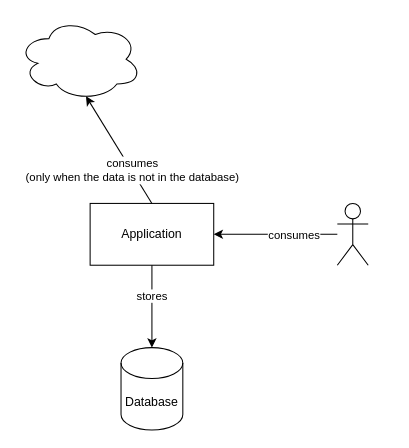
This 409x448 diagram has some shape labels left out. The shapes that lost their labels are listed below. From the top down, each one's box as (x1, y1, x2, y2) in pixels, then its label:
(17, 17, 142, 100): Pokemon API
(336, 202, 368, 265): API consumer
